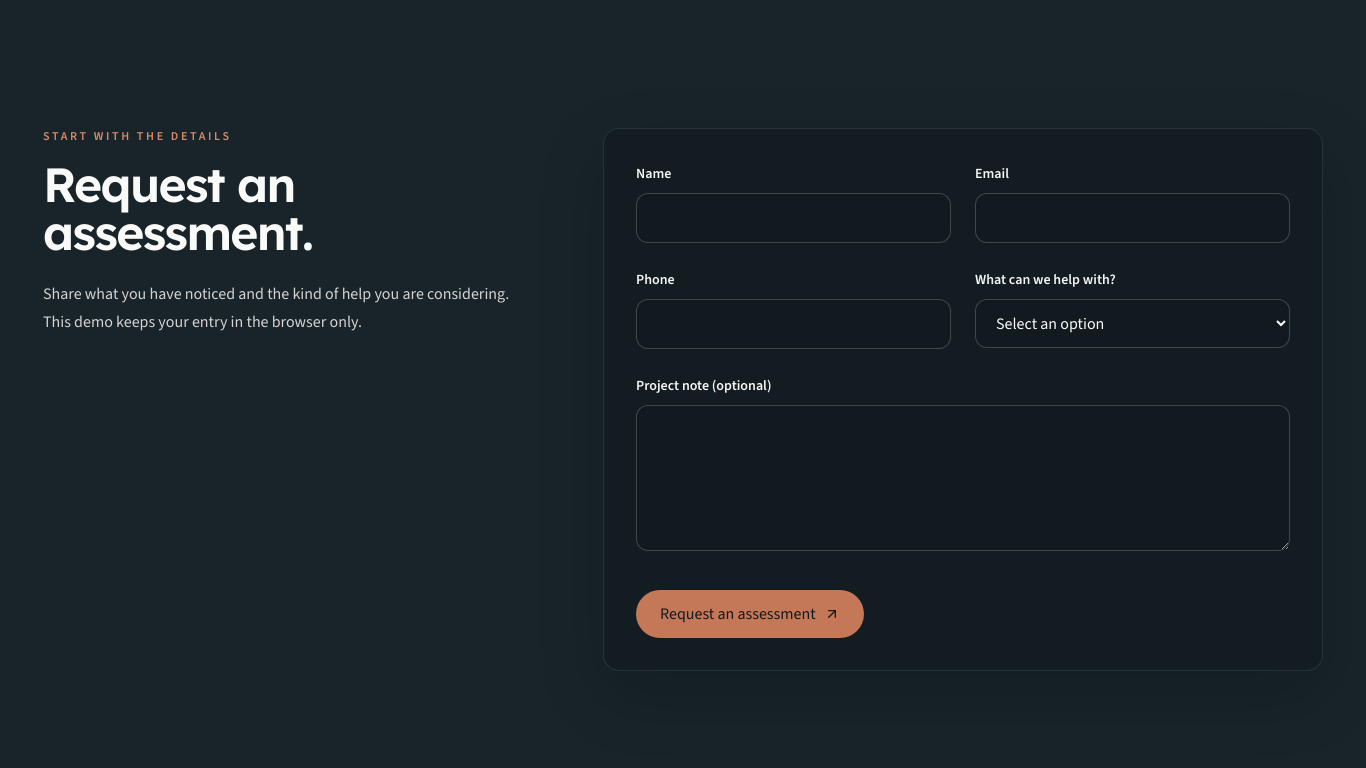
Test case: AssessmentForm › shows an honest local confirmation for a complete request
In the field labelled "Name": (794, 218) left=636, top=193, right=951, bottom=243, type "Avery Stone"
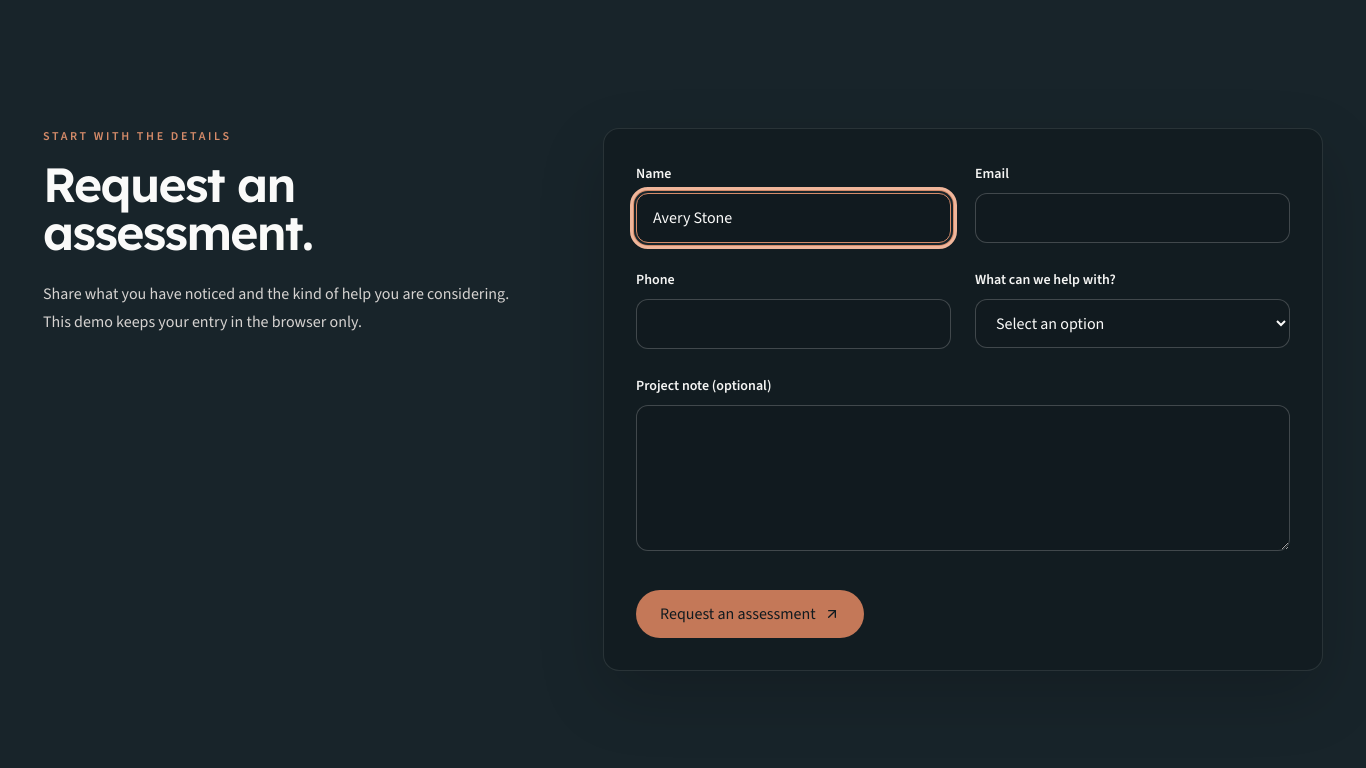
In the field labelled "Email": (1132, 218) left=975, top=193, right=1290, bottom=243, type "avery@example.com"
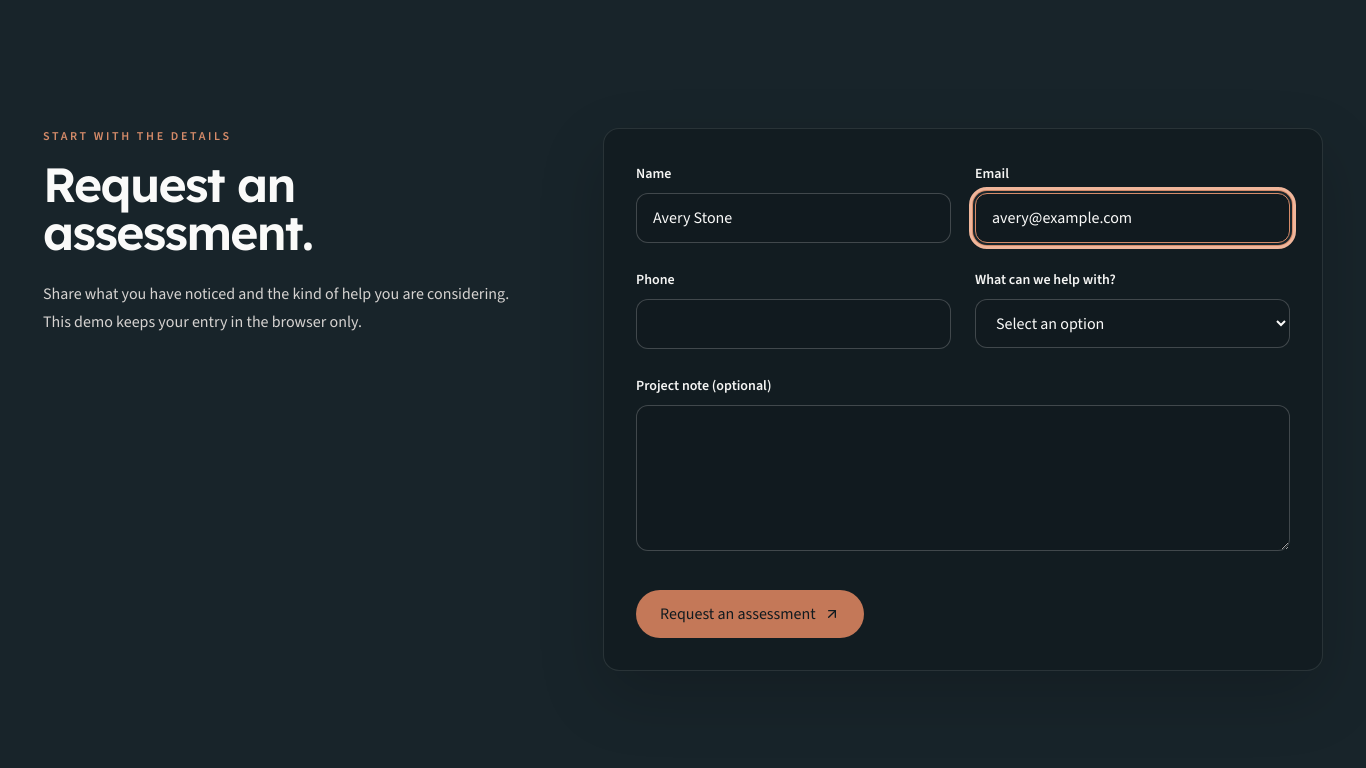
In the field labelled "Phone": (794, 324) left=636, top=299, right=951, bottom=349, type "555-010-1234"
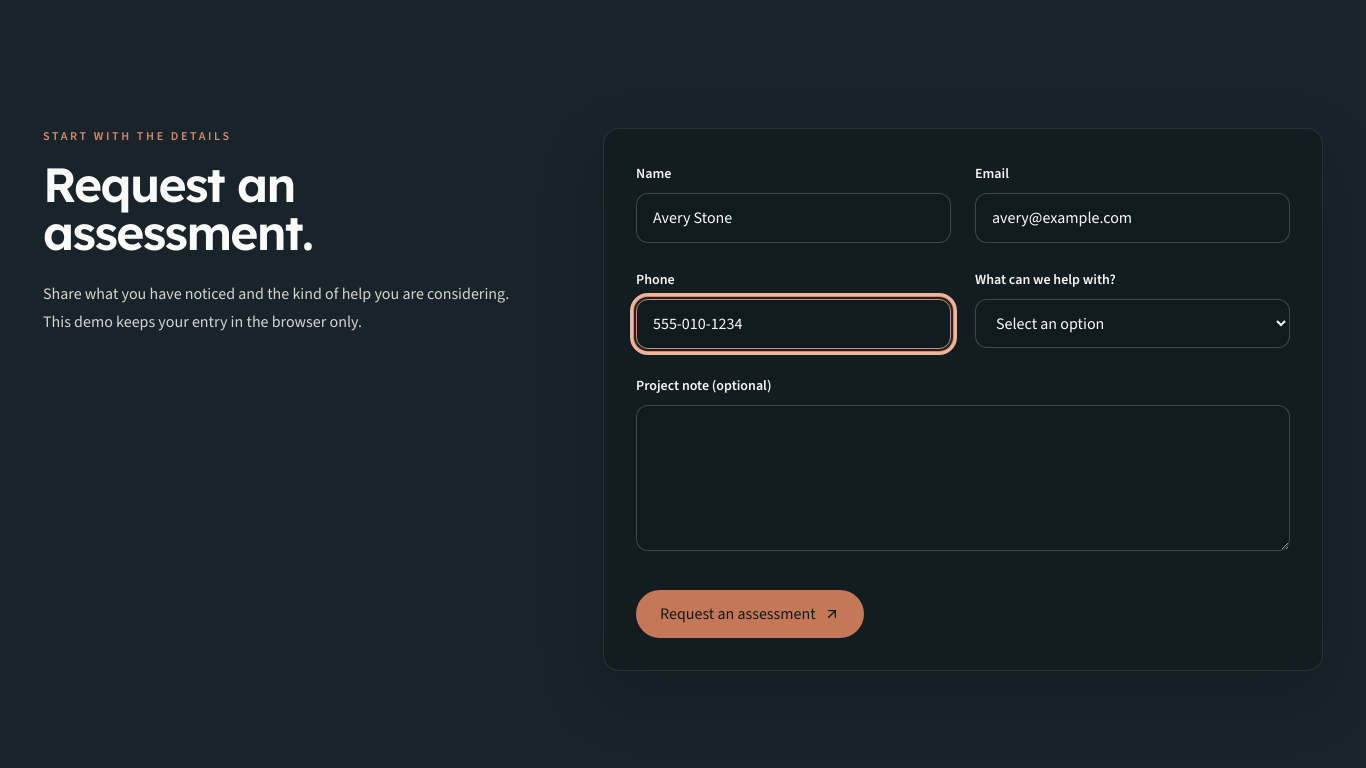
Select "Roof replacement" in the dropdown labelled "What can we help with?": (1132, 324) left=975, top=299, right=1290, bottom=348
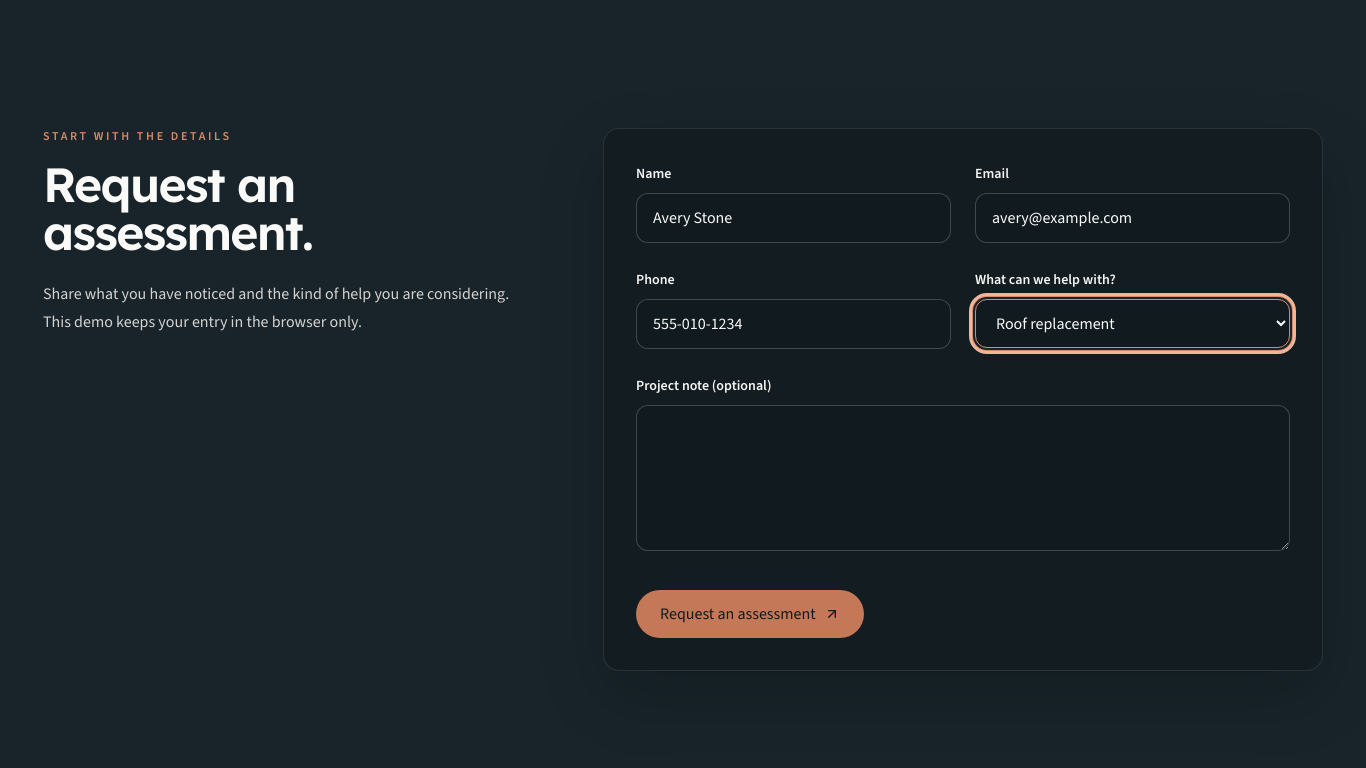
Click the button "Request an assessment": (750, 614) left=636, top=590, right=864, bottom=638
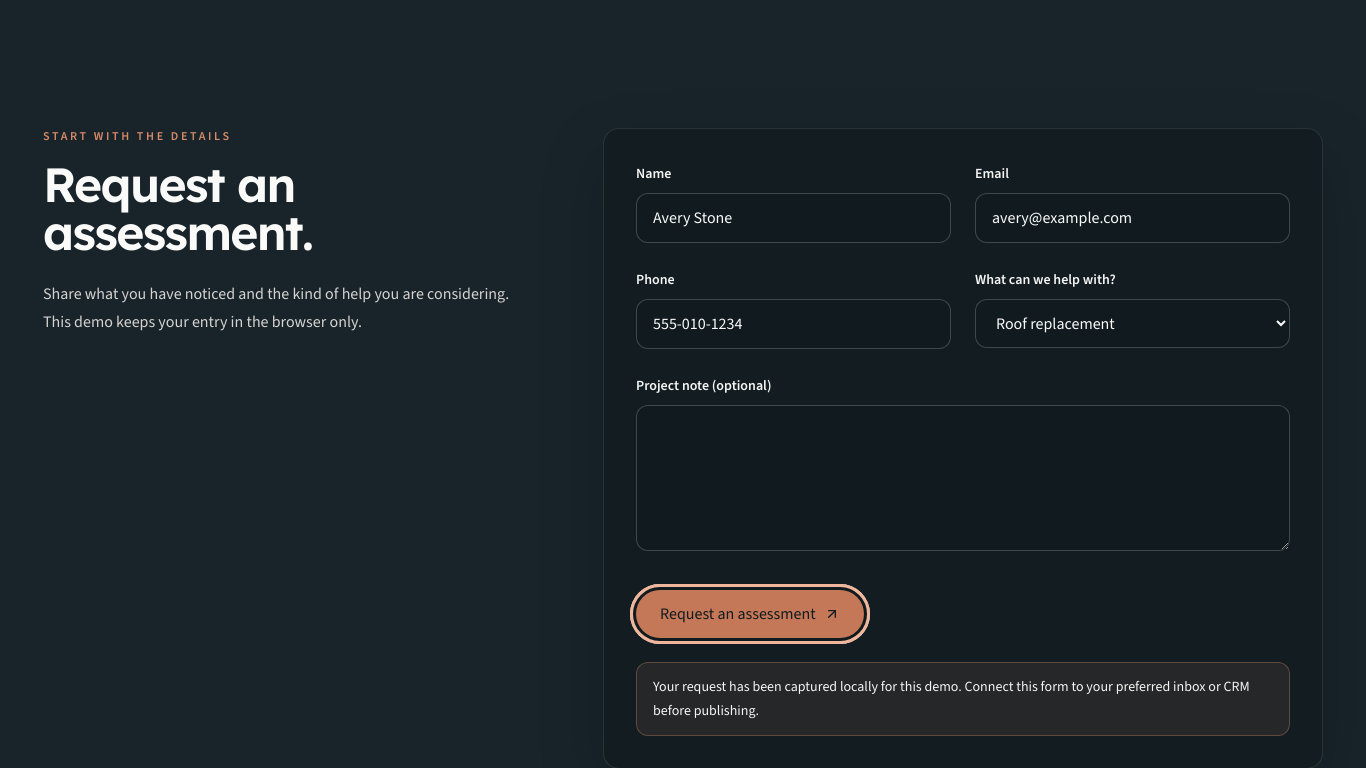
Expected: the text "captured locally for this demo" is shown, left=653, top=677, right=1250, bottom=720
